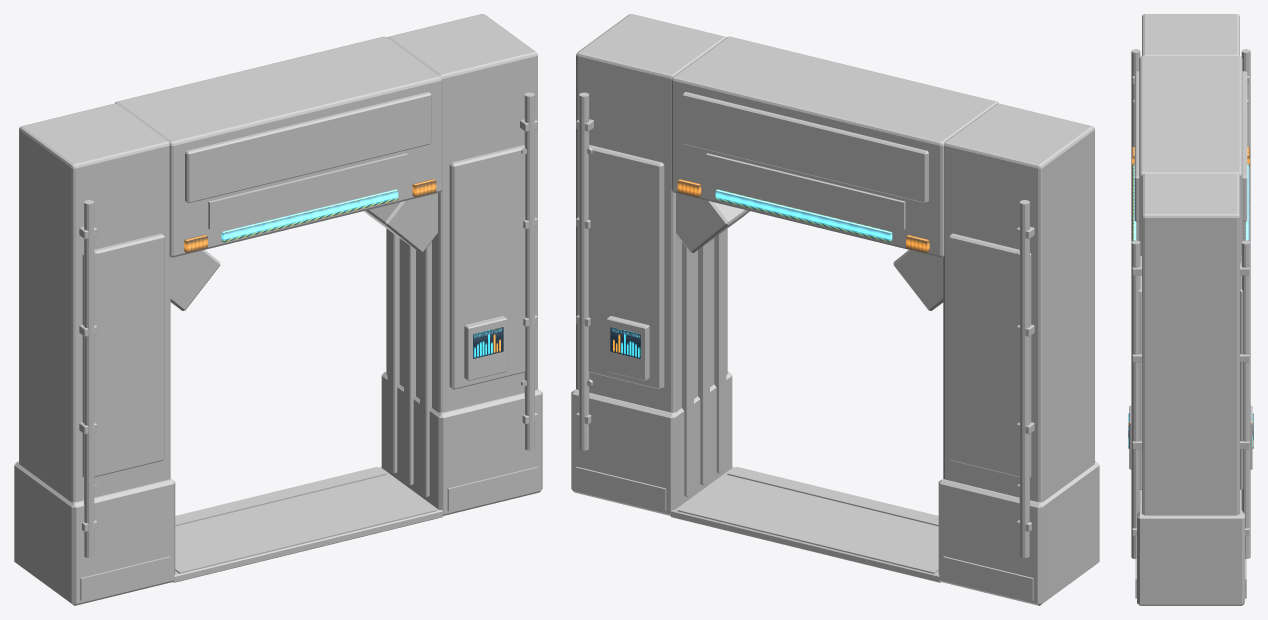
File: SF_Bulkhead_Arch_LOD0.fbx
3 renders of one model, left to right at view 1: azimuth 30°, elevation 25°; view 2: azimuth 150°, elevation 25°; view 3: azimuth 270°, elevation 25°, orthographic. The views are drawn at different scales.
Parts seen in each view (by area): view 1: SF_Bulkhead_Arch_LOD0; view 2: SF_Bulkhead_Arch_LOD0; view 3: SF_Bulkhead_Arch_LOD0.
Part boxes in pixels (x1,y1,x2,y2): SF_Bulkhead_Arch_LOD0: (14, 14, 542, 605); SF_Bulkhead_Arch_LOD0: (571, 14, 1099, 605); SF_Bulkhead_Arch_LOD0: (1128, 14, 1253, 605).
Size of the model in its own units: 4.04 by 3.6 by 1.05.
